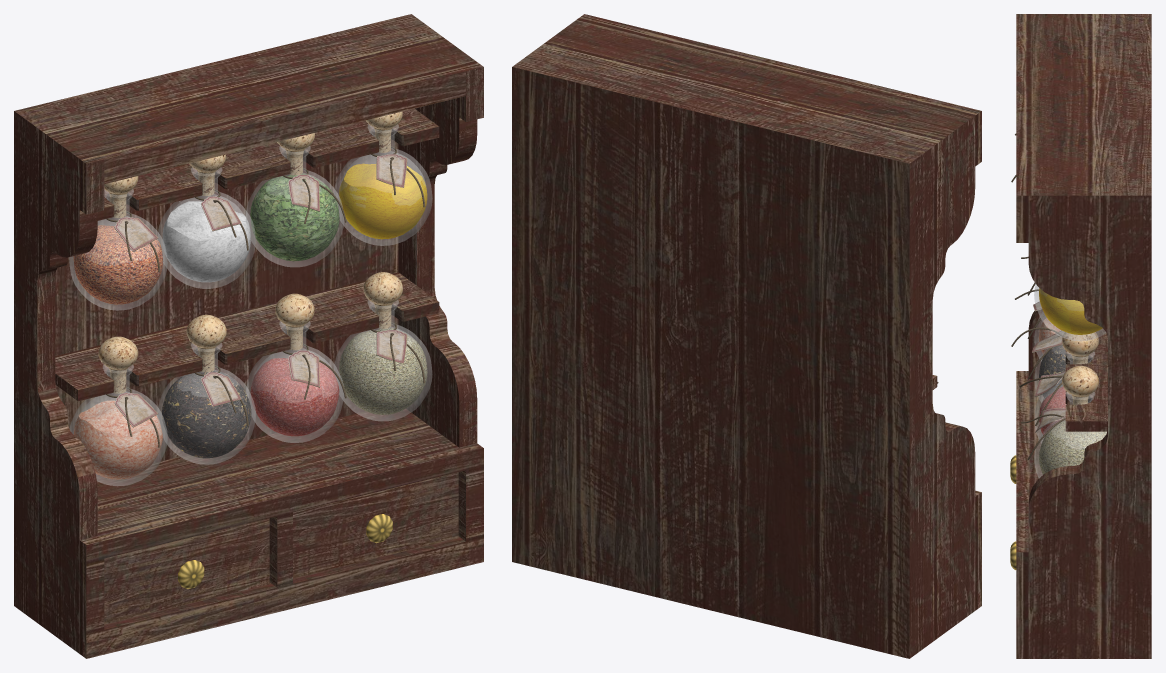
File: obj_spice_rack_9b5633.glb
3 renders of one model, left to right at view 1: azimuth 30°, elevation 25°; view 2: azimuth 150°, elevation 25°; view 3: azimuth 270°, elevation 25°, orthographic. The views are drawn at different scales.
Visible parts, largest first — view 1: obj_spice_rack_9b5633; view 2: obj_spice_rack_9b5633; view 3: obj_spice_rack_9b5633.
Part boxes in pixels (x1,y1,x2,y2): obj_spice_rack_9b5633: (14,14,483,658); obj_spice_rack_9b5633: (512,14,981,658); obj_spice_rack_9b5633: (1010,14,1151,658).
Size of the model in its own units: 0.294 by 0.35 by 0.0966.
Materials: 14 (13 with a texture image).
